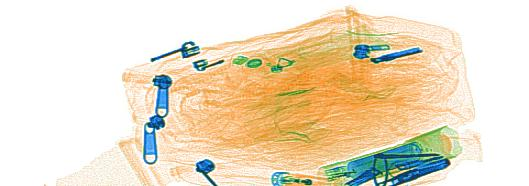battery: (345, 141, 425, 180)
lighter: (271, 170, 351, 183)
